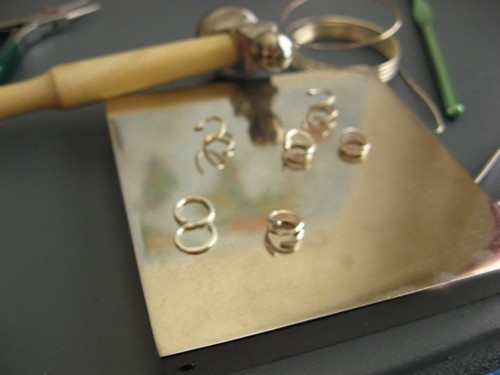hammer: (1, 9, 285, 115)
